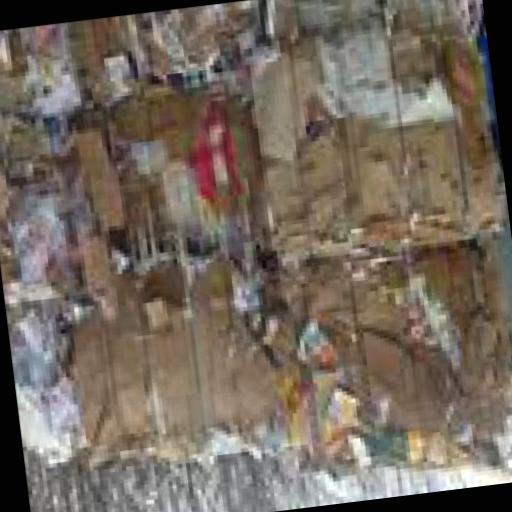cardboard: (241, 0, 511, 271), (265, 241, 512, 501), (57, 222, 292, 482), (70, 71, 278, 296), (0, 107, 117, 314), (74, 1, 276, 116), (6, 274, 96, 470), (0, 24, 85, 131)
